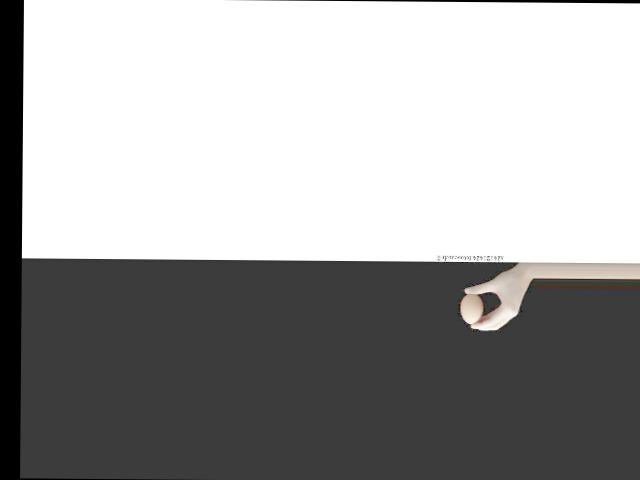egg: (460, 293, 482, 324)
